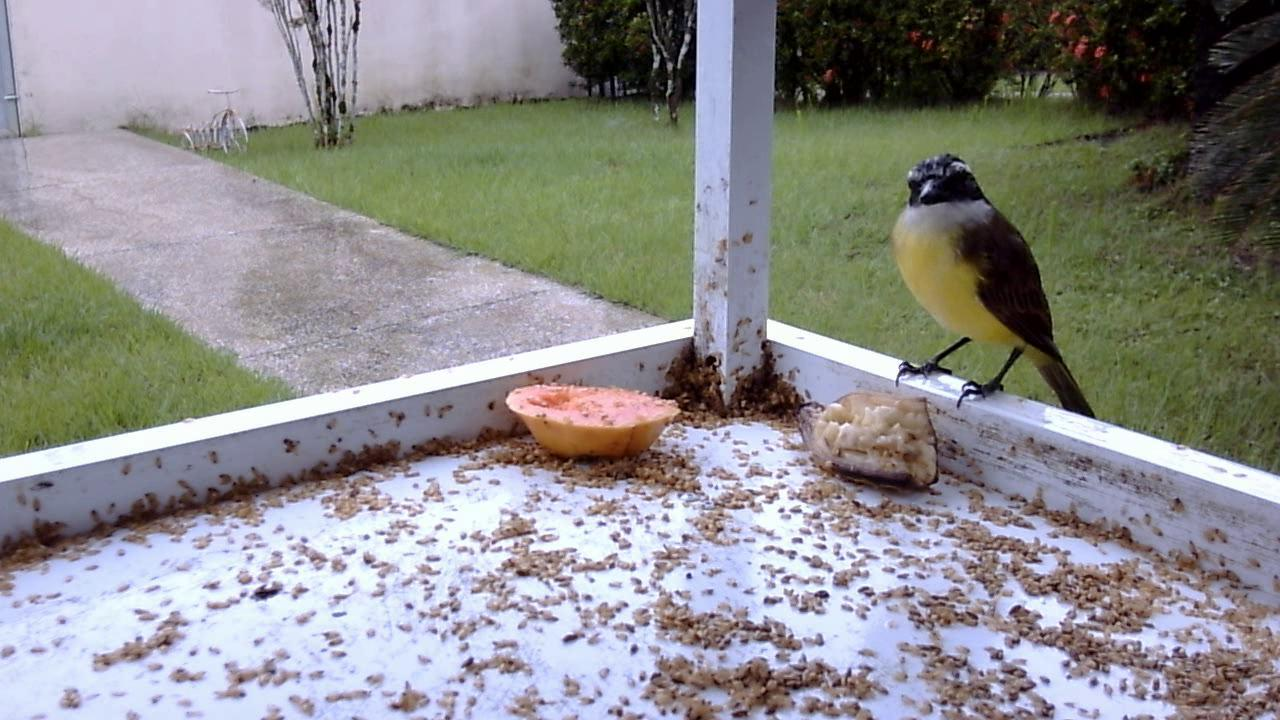bem_te_vi: (873, 140, 1111, 431)
